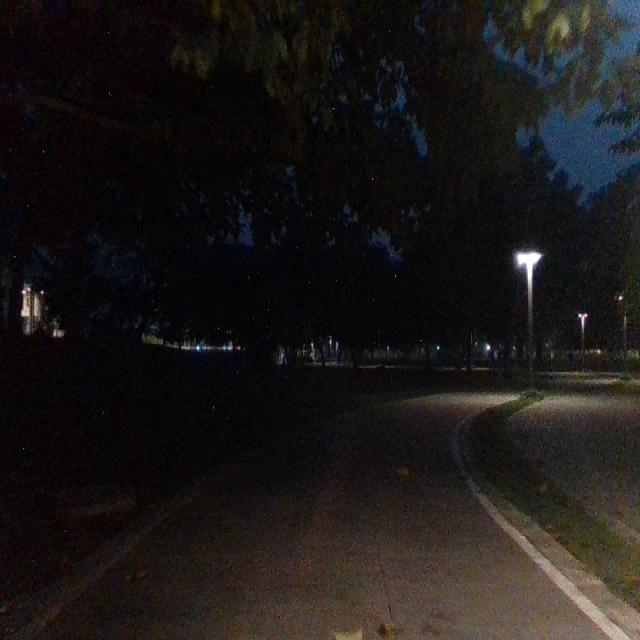lane: (40, 394, 612, 640)
